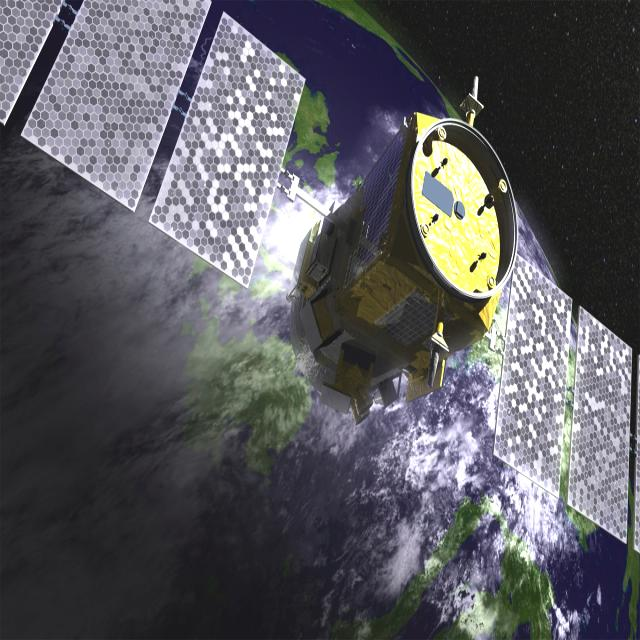satellite: (0, 2, 640, 544)
